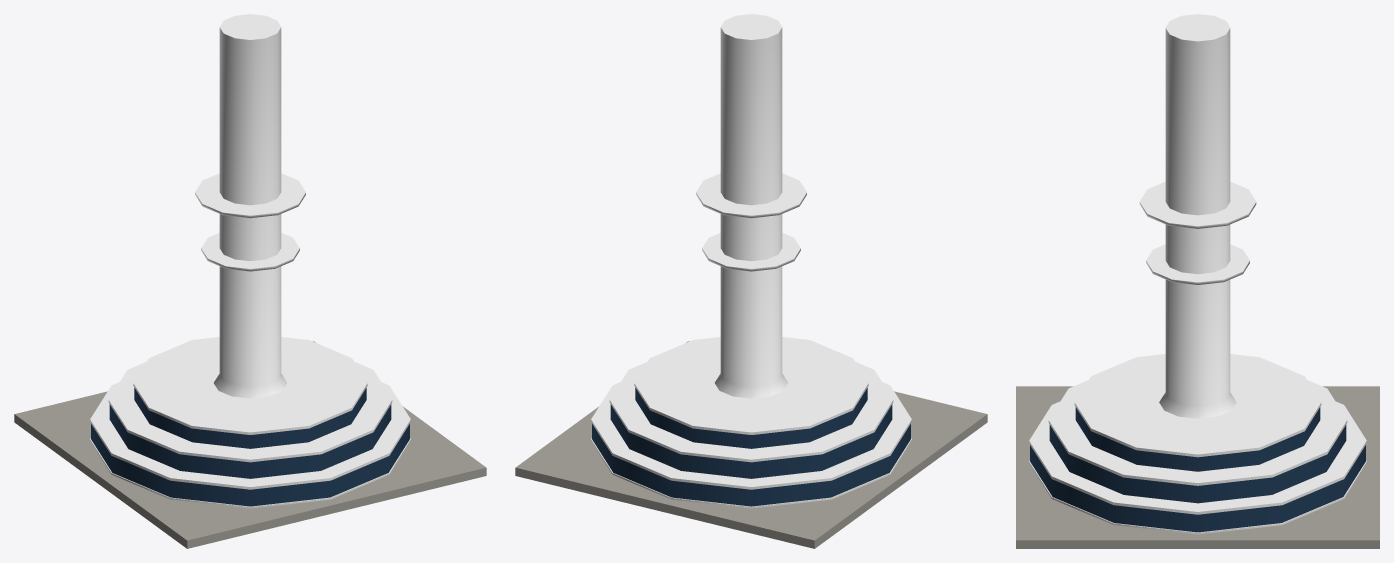
File: base-prebuilt_far.fbx
3 renders of one model, left to right at view 1: azimuth 30°, elevation 25°; view 2: azimuth 150°, elevation 25°; view 3: azimuth 270°, elevation 25°, orthographic. The views are drawn at different scales.
Visible parts, largest first — view 1: landmark-great_tower/0/base-prebuilt_far; view 2: landmark-great_tower/0/base-prebuilt_far; view 3: landmark-great_tower/0/base-prebuilt_far.
Boxes of the visible parts, box(x1,y1,x2,y2) form: landmark-great_tower/0/base-prebuilt_far: box(14, 14, 486, 548); landmark-great_tower/0/base-prebuilt_far: box(515, 14, 987, 548); landmark-great_tower/0/base-prebuilt_far: box(1016, 14, 1379, 548).
Size of the model in its own units: 56 by 75.5 by 56.
